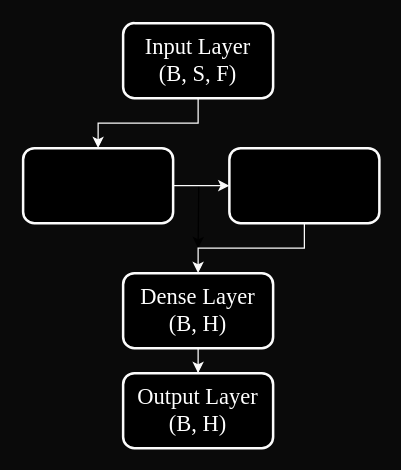
This 401x470 diagram has some shape labels left out. Each missing label, with the centre of its shape:
Dropout Layer (B, units): [304,185]
LSTM Layer (B, units): [97,185]
